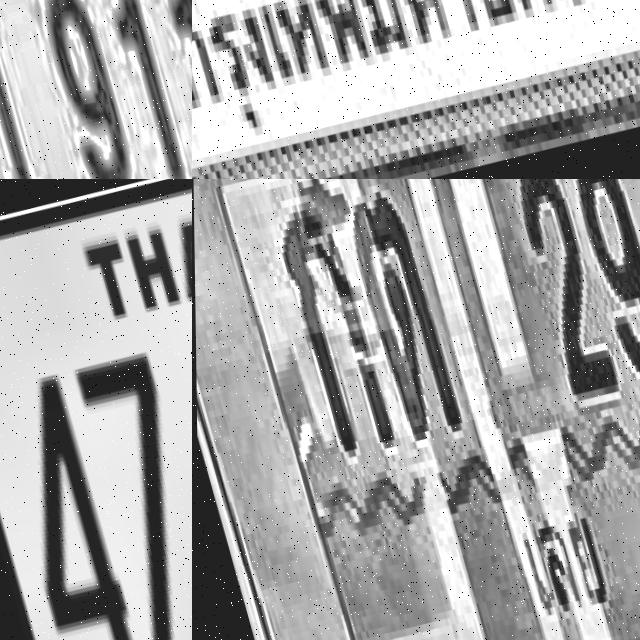license-plate: (192, 179, 640, 640), (0, 179, 192, 640), (192, 0, 640, 179), (0, 0, 192, 179)
